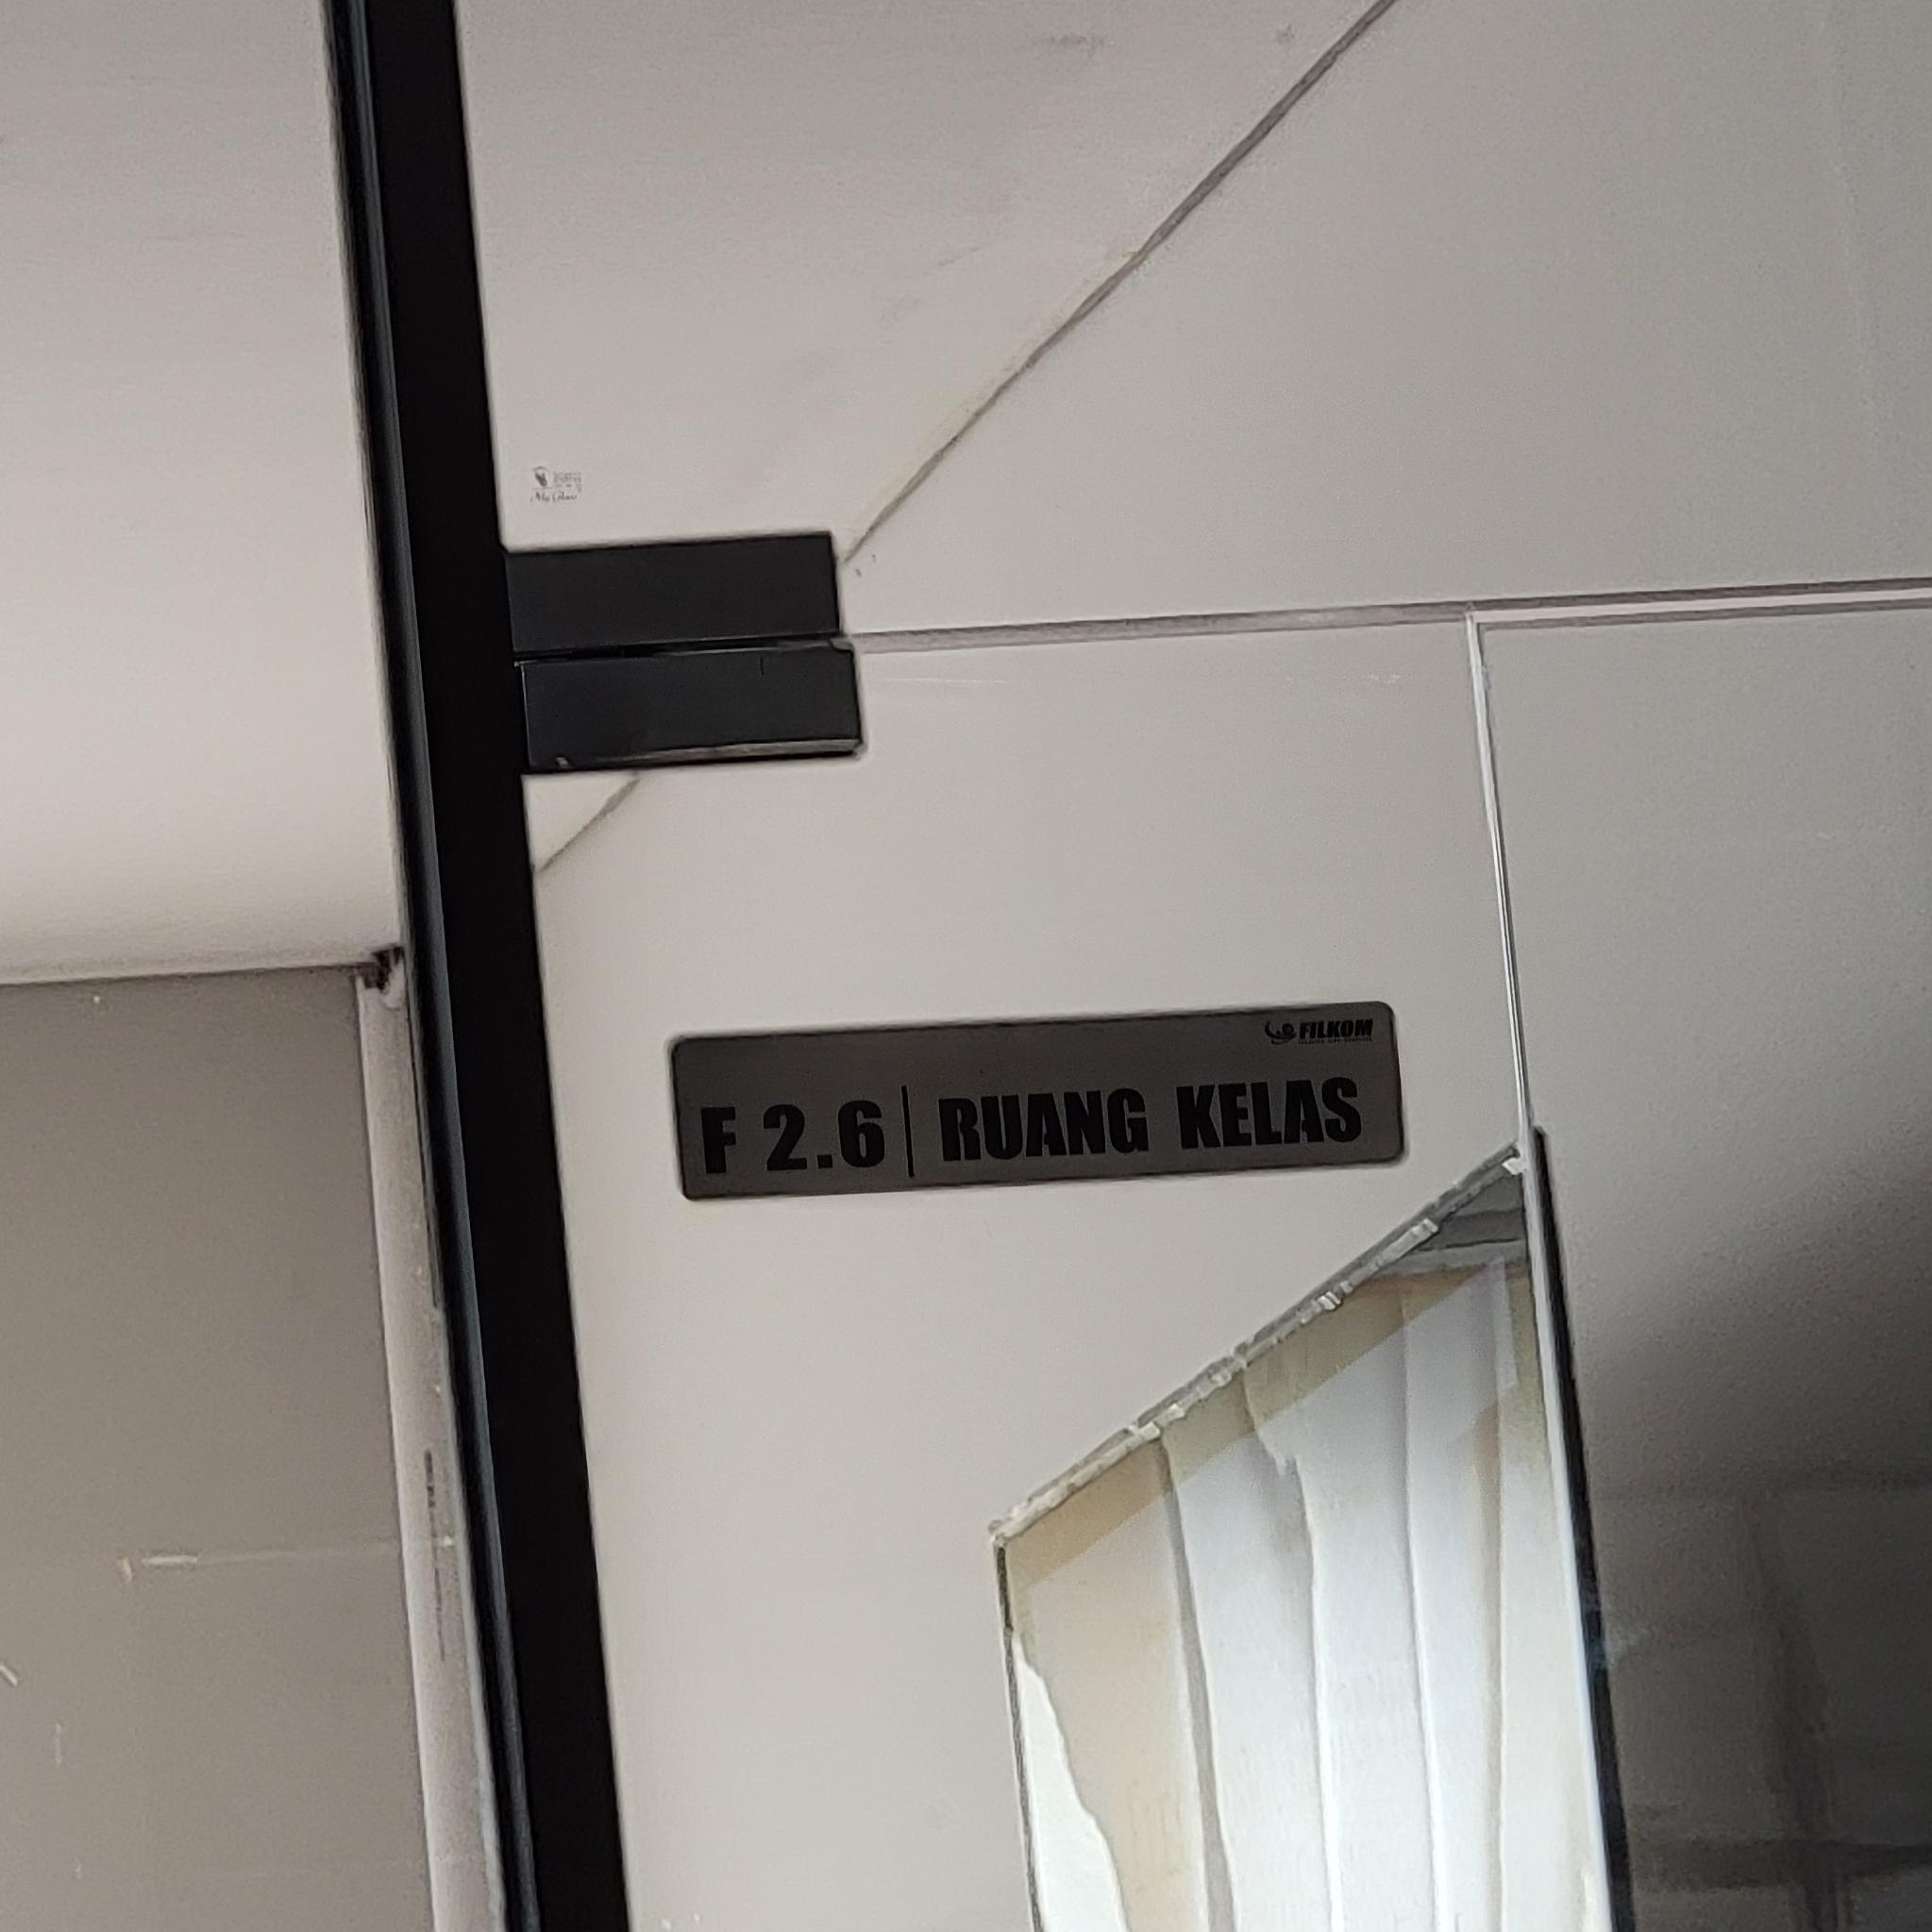plate: (667, 1000, 1408, 1200)
